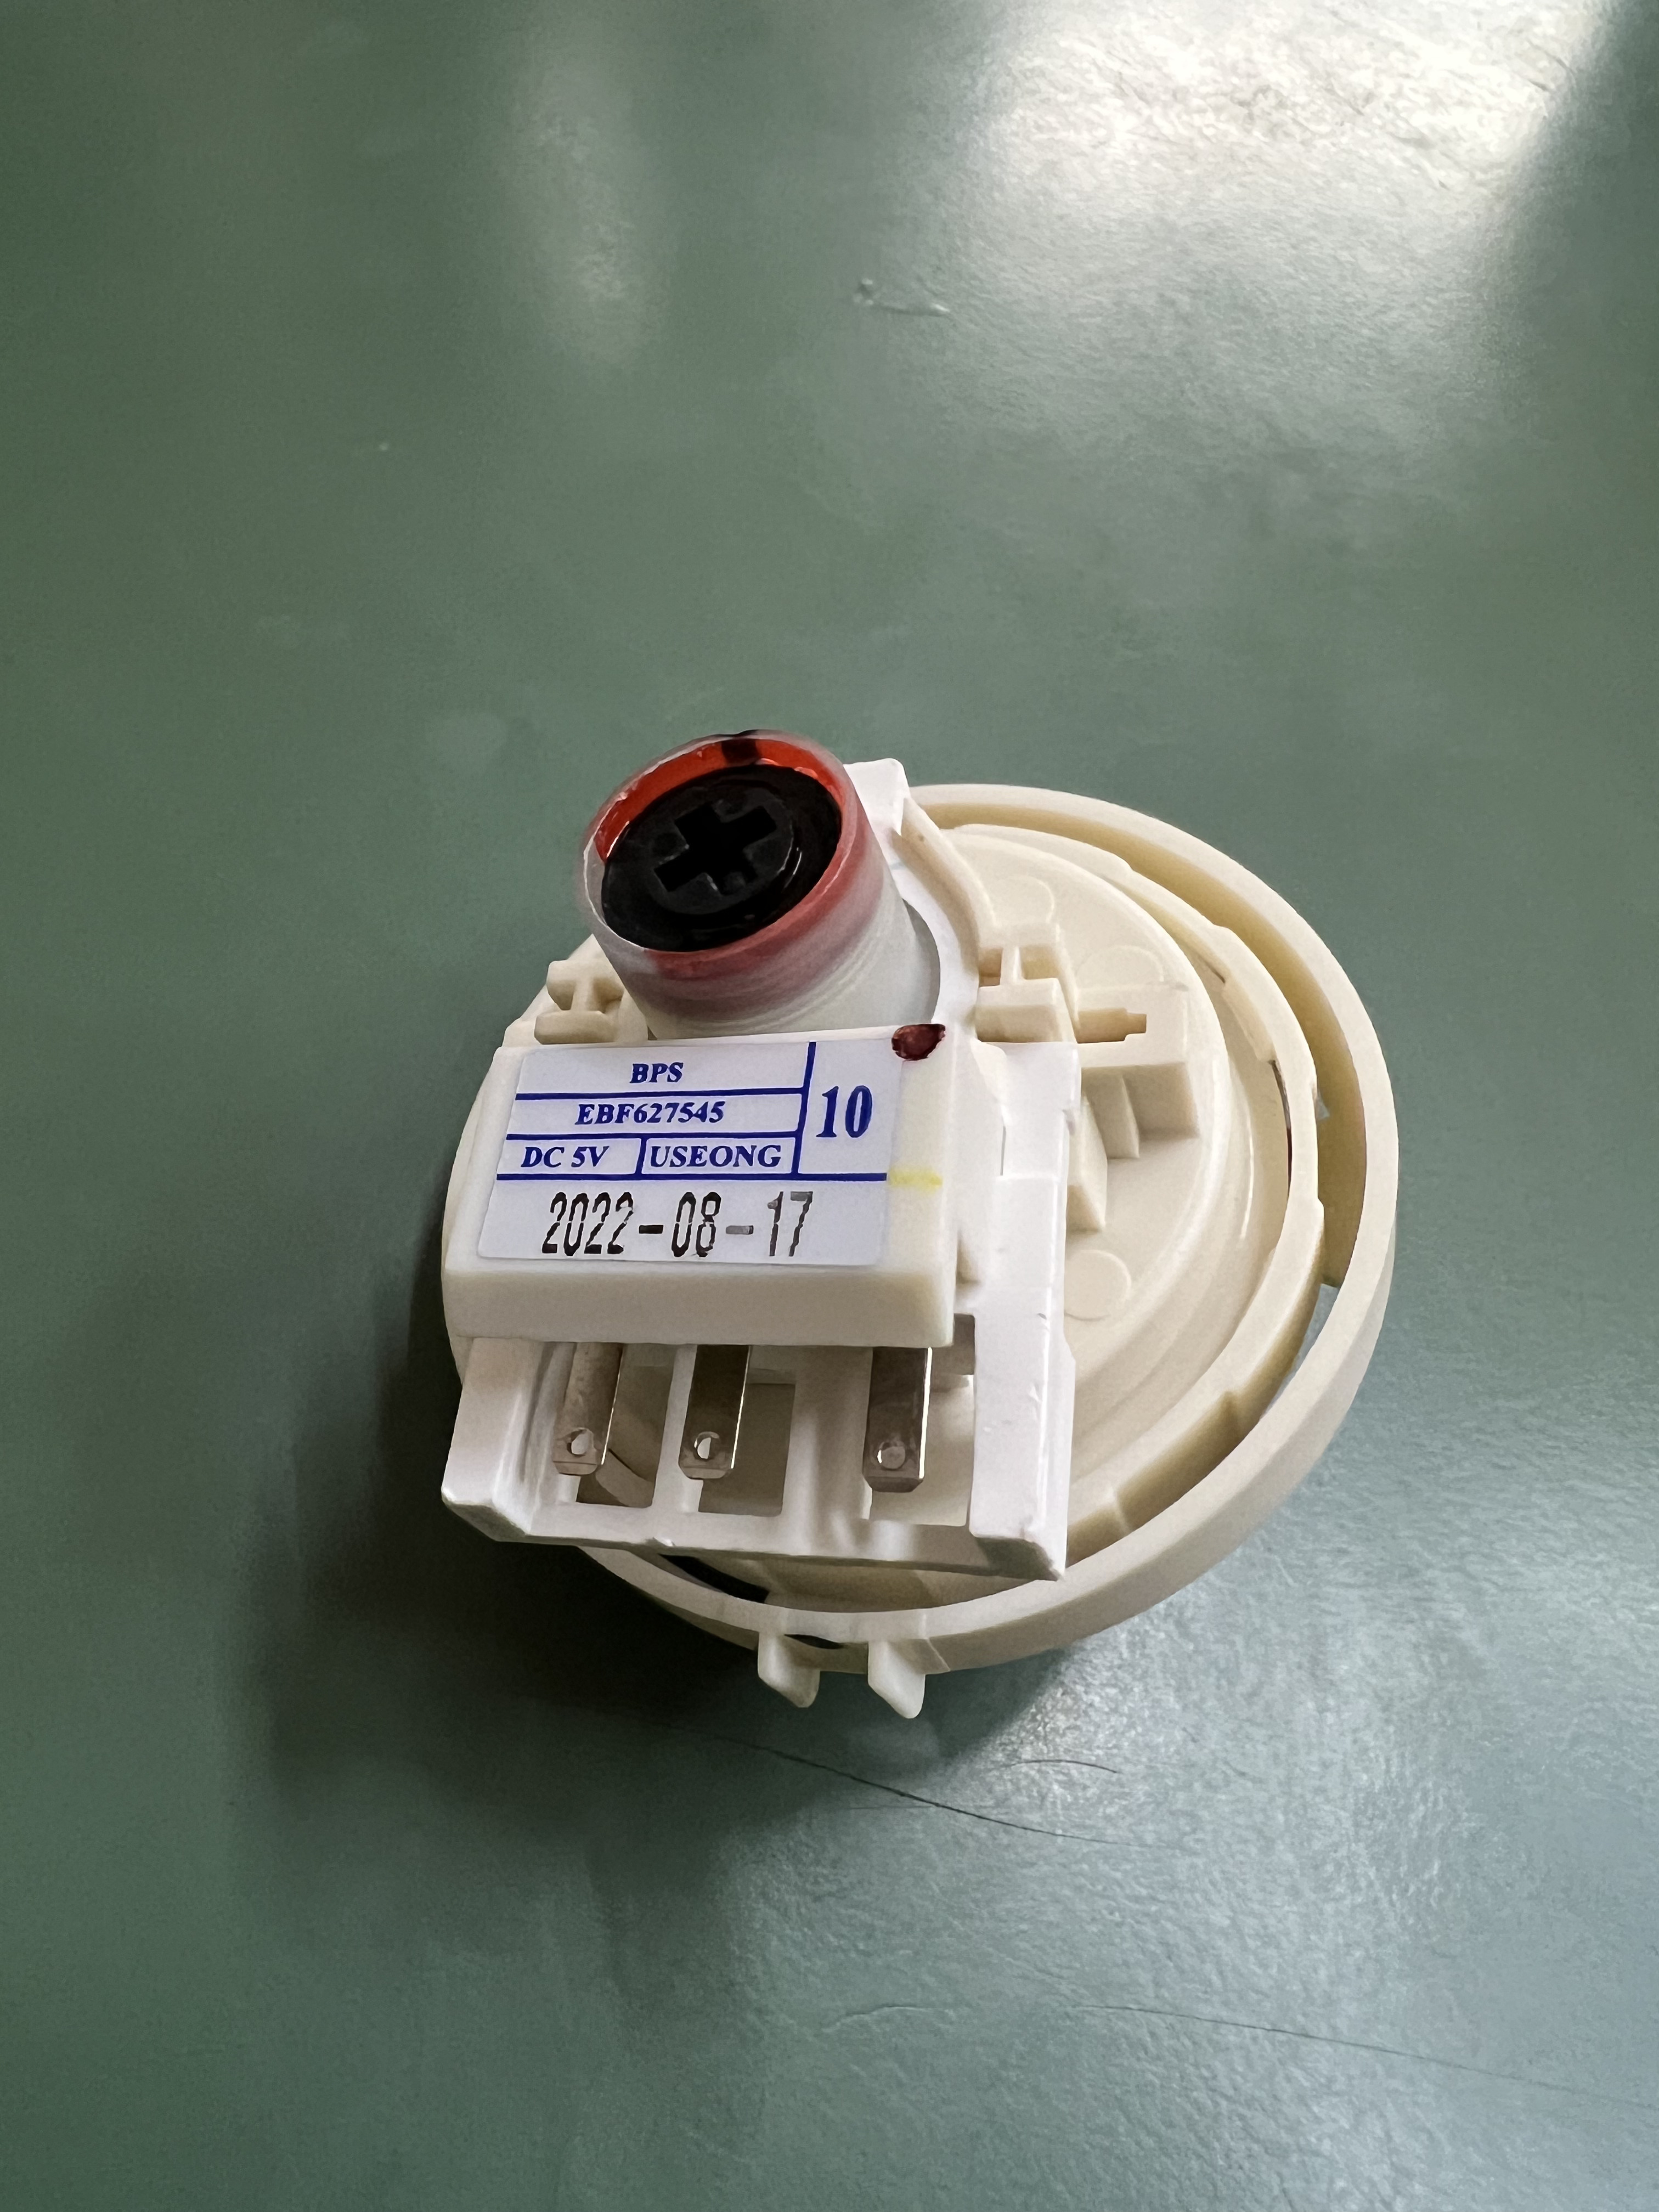pressure_sensor: (415, 770, 1436, 1749)
